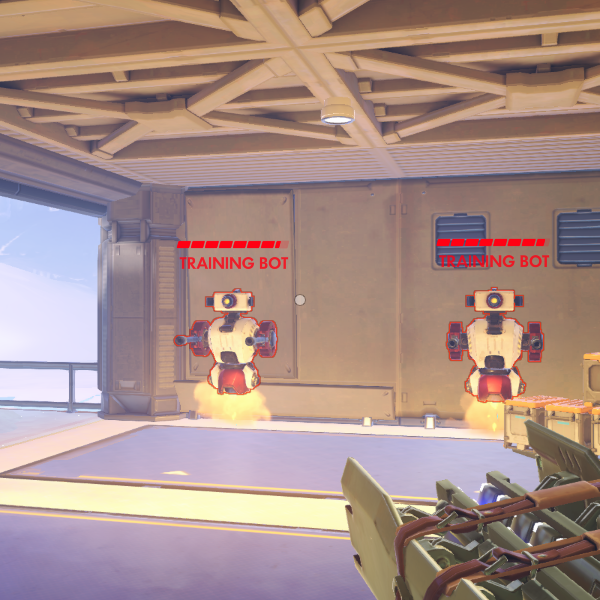hpbar: (436, 238, 551, 247), (176, 240, 290, 249)
